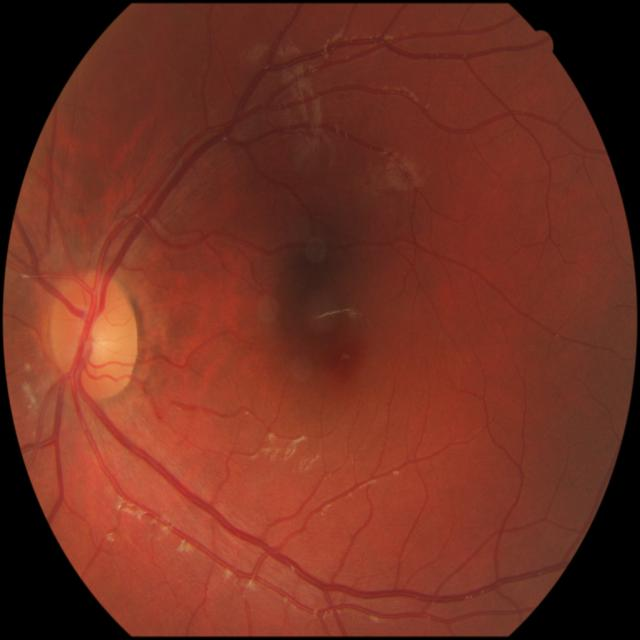OC: (78, 316, 116, 361)
OD: (51, 272, 140, 402)
